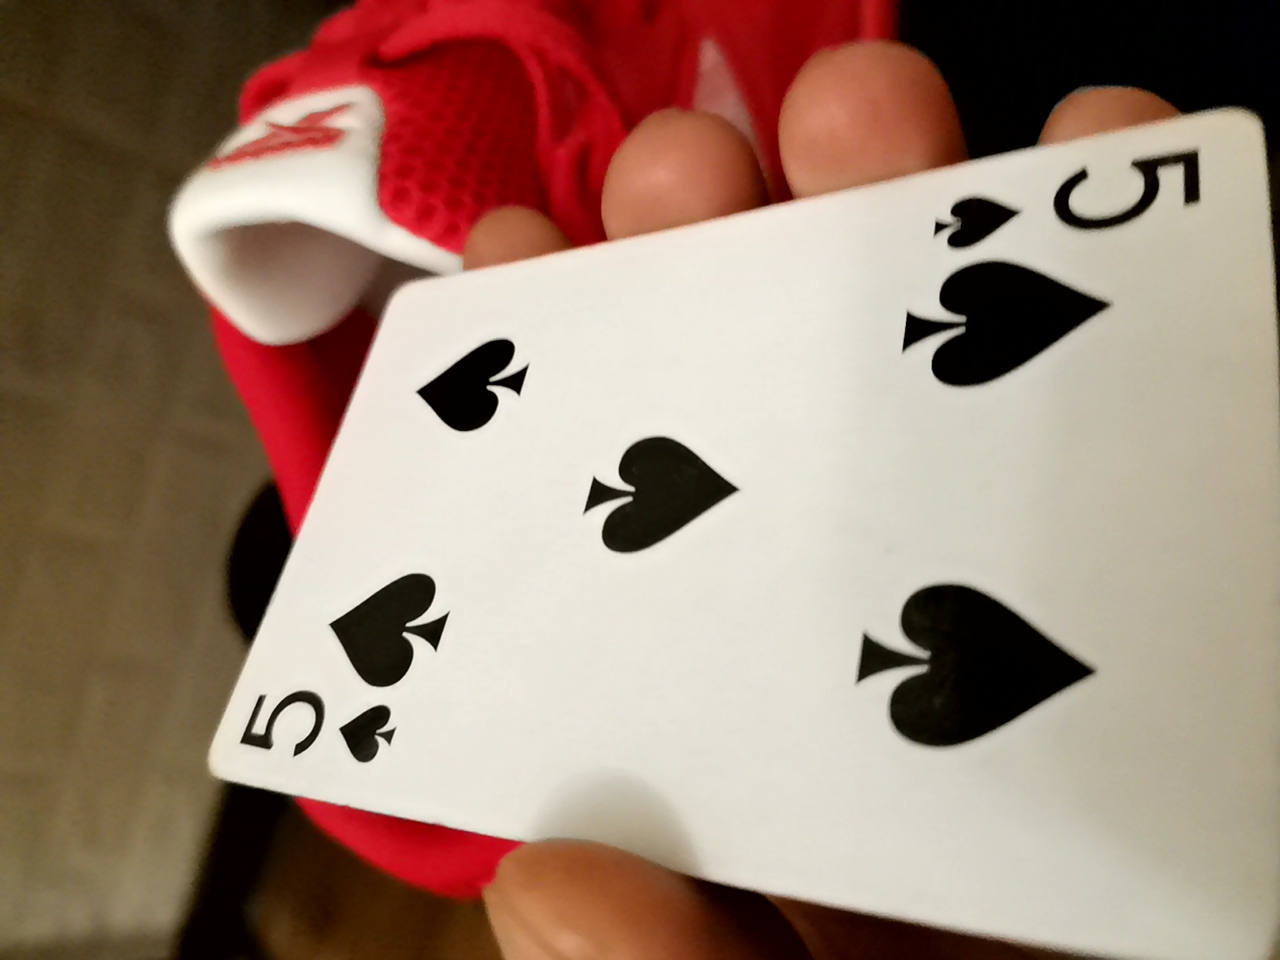ht 5: (171, 125, 1272, 916)
